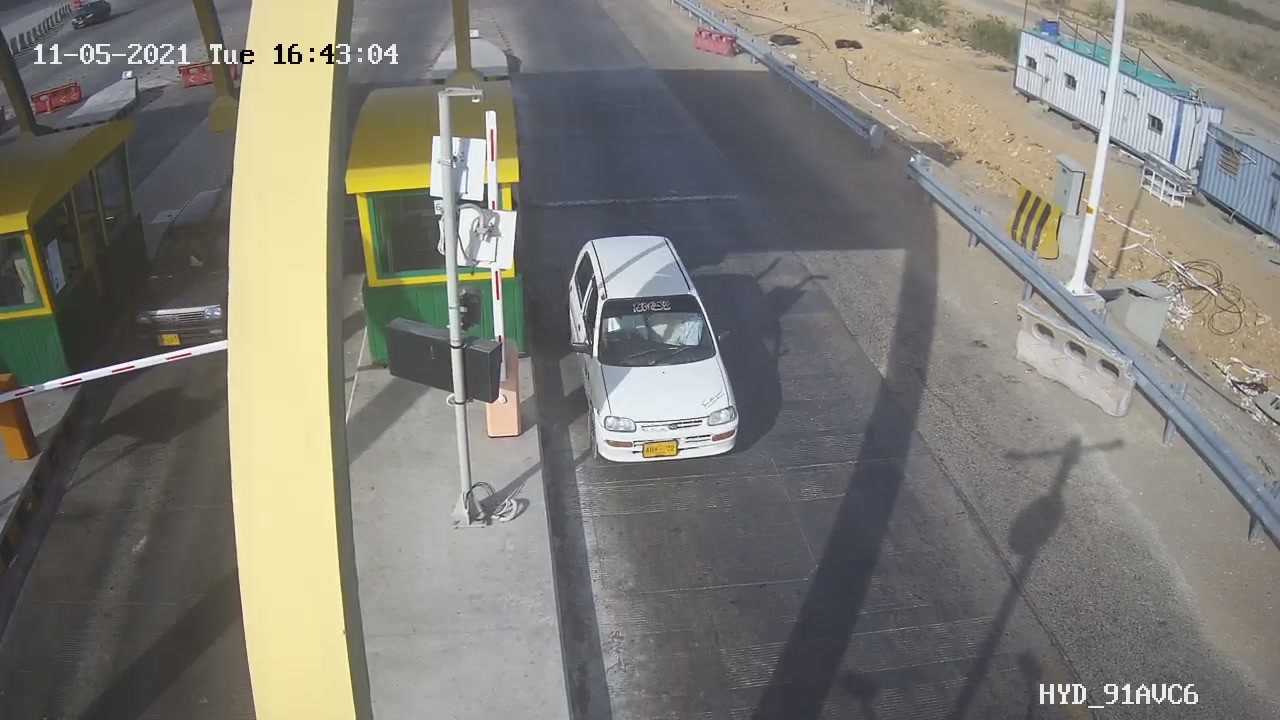F1: (546, 221, 760, 478)
